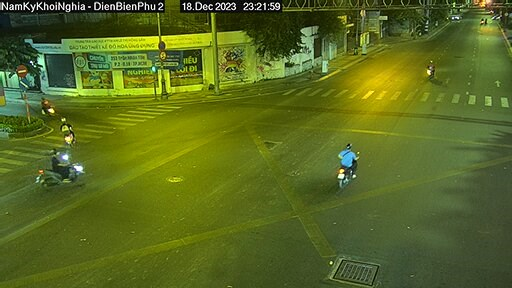motorbike: (29, 152, 94, 191), (330, 138, 374, 180), (50, 114, 80, 146), (39, 97, 60, 119), (424, 58, 439, 82)
